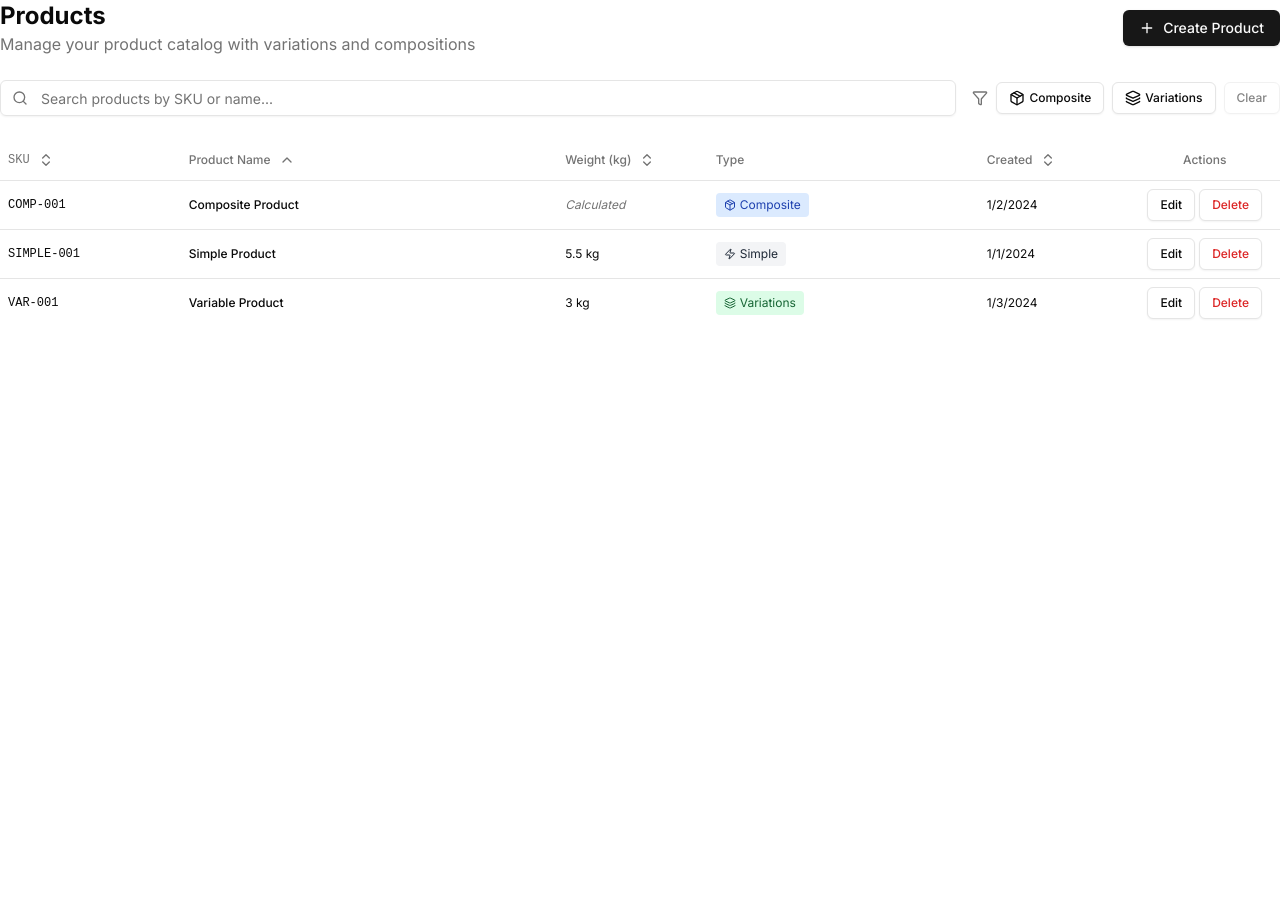
ProductList › shows delete confirmation modal
What coordinates should you click on to do the following:
click the button with aria-label "Delete product"
I would click on:
 (1231, 204)
Its box is left=1199, top=188, right=1262, bottom=220.
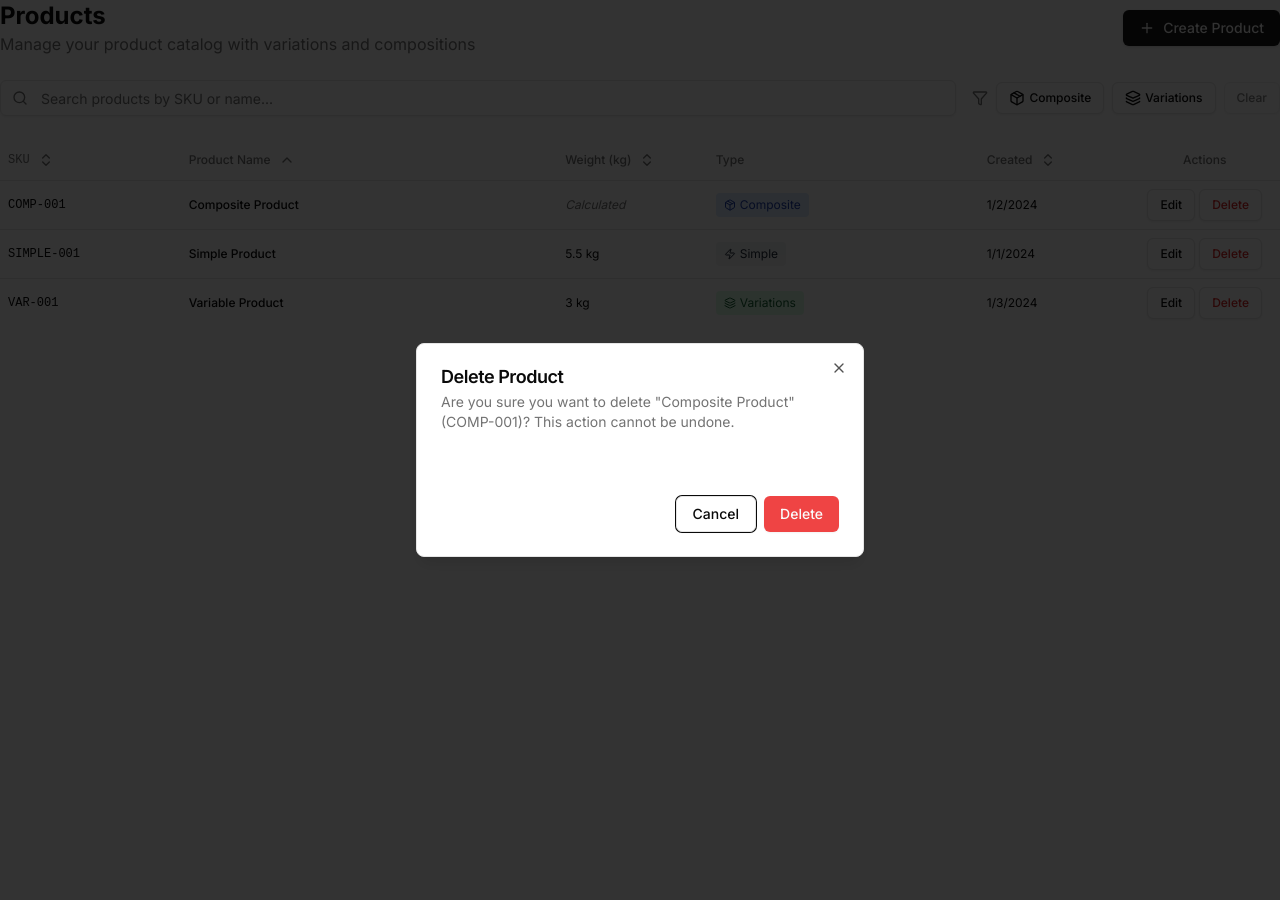
Check: the heading "Delete Product" is shown, box left=441, top=366, right=564, bottom=387
Check: the text "Are you sure you want to delete" is shown, box left=441, top=393, right=795, bottom=430
